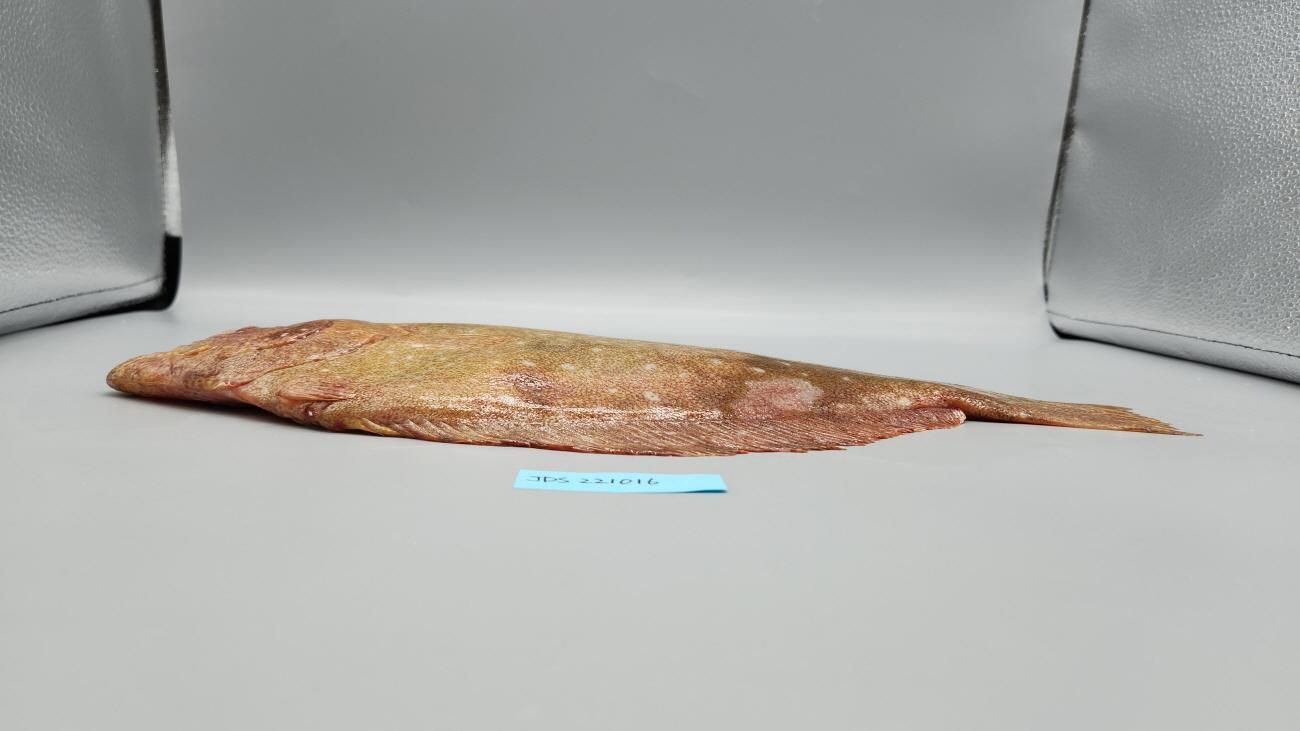POOUN: (105, 318, 1204, 458)
